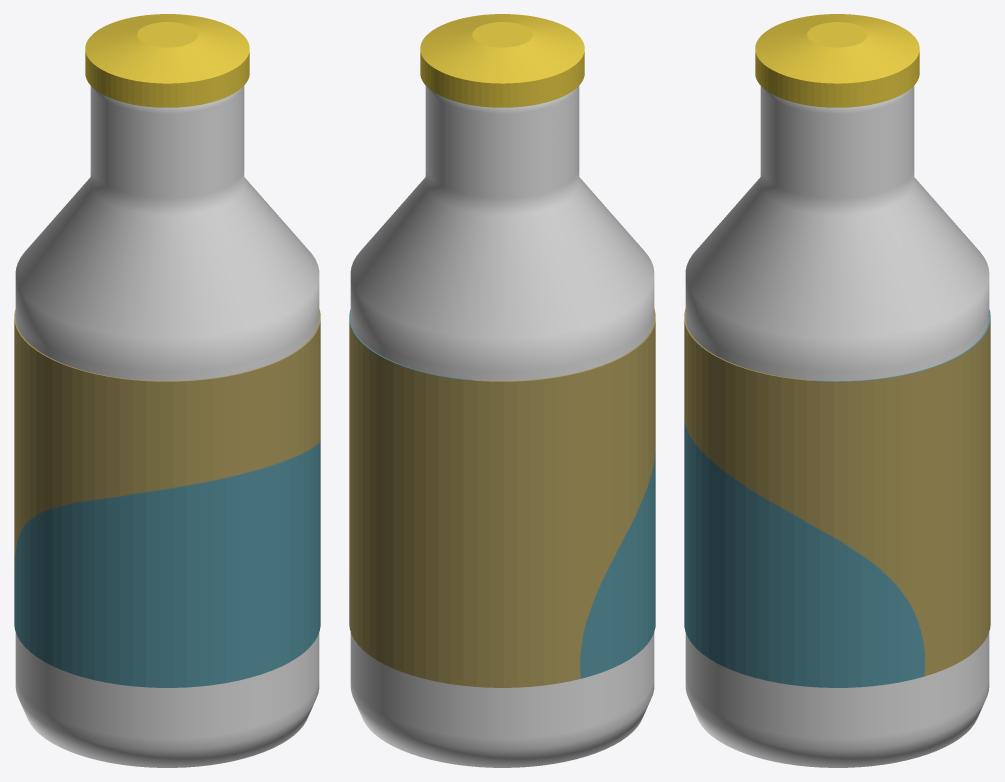
File: Snawfus-Milk.fbx
3 views of the same model, side by side, from view 1: azimuth 30°, elevation 25°; view 2: azimuth 150°, elevation 25°; view 3: azimuth 270°, elevation 25° (orthographic).
Visible parts, largest first — view 1: Cylinder.002, Cylinder, Cylinder.001; view 2: Cylinder.002, Cylinder, Cylinder.001; view 3: Cylinder.002, Cylinder, Cylinder.001.
Part boxes in pixels (x1=…): Cylinder.002: x1=14, y1=309, x2=320, y2=687; Cylinder: x1=15, y1=86, x2=319, y2=767; Cylinder.001: x1=85, y1=14, x2=249, y2=107; Cylinder.002: x1=349, y1=309, x2=655, y2=687; Cylinder: x1=350, y1=86, x2=654, y2=767; Cylinder.001: x1=420, y1=14, x2=584, y2=107; Cylinder.002: x1=684, y1=308, x2=990, y2=687; Cylinder: x1=685, y1=86, x2=989, y2=767; Cylinder.001: x1=755, y1=14, x2=919, y2=107.
Bounding box in the file's own units: 202 × 489 × 202.
